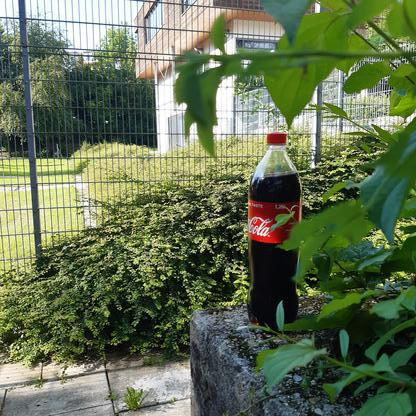coca-cola: (246, 131, 302, 330)
